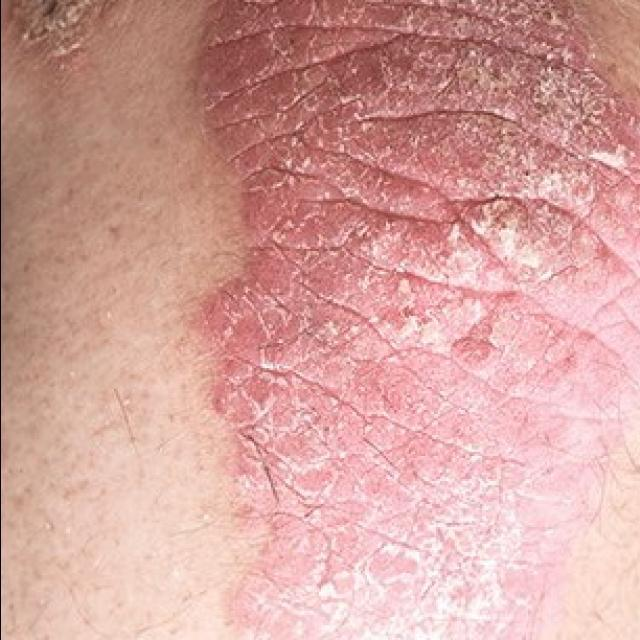Psoriasis: (186, 0, 640, 640), (1, 0, 153, 80)
